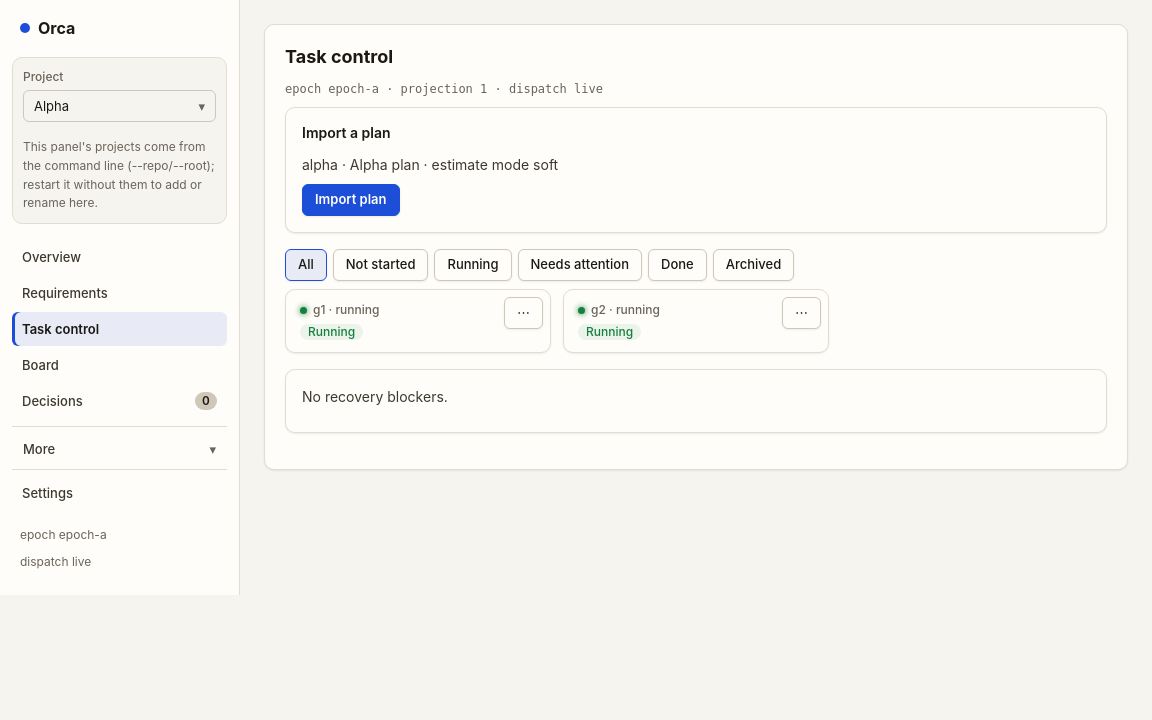
Test case: an import's refusal stays in the import form (spec §2.2(d)) › lists the plan's problems one per line, in English and in Chinese
Click the button "Import plan" at coordinates (351, 200), box [302,184,400,216]
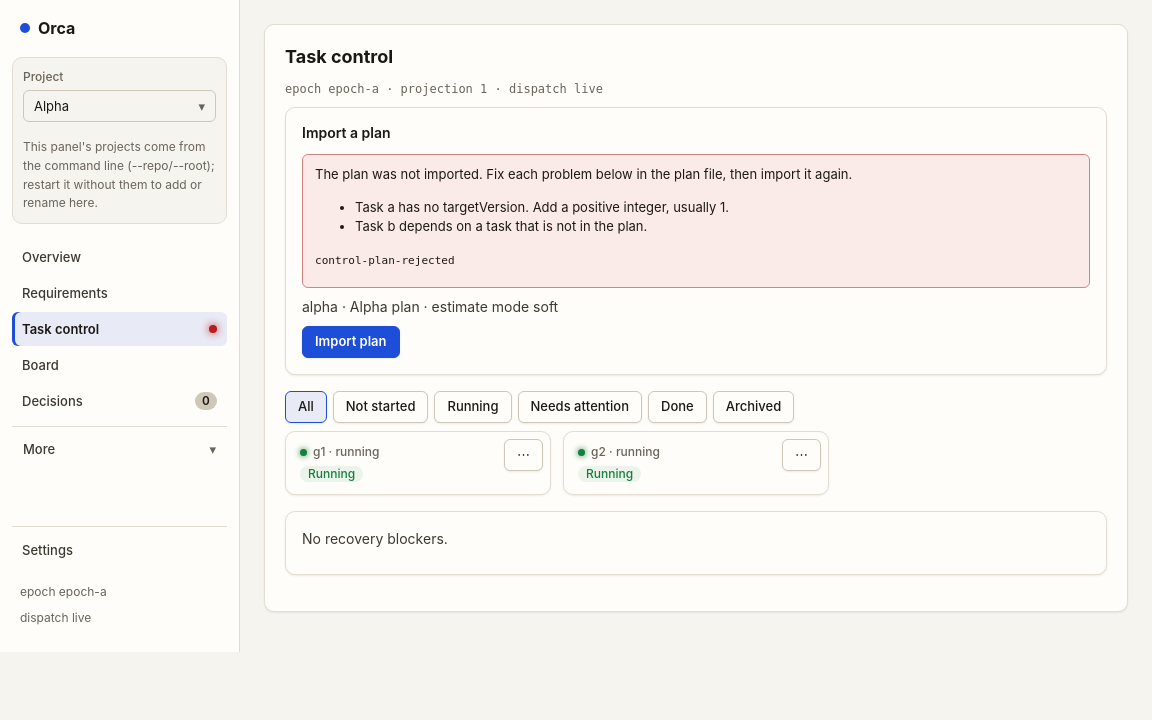
Expected: the list items read "Task a has no targetVersion. Add a positive integer, usually 1.", "Task b depends on a task that is not in the plan.", in this order, [355,199,729,215]; [355,218,647,234]
Expected: the text "control-plan-rejected" is shown once, [315,254,455,267]
